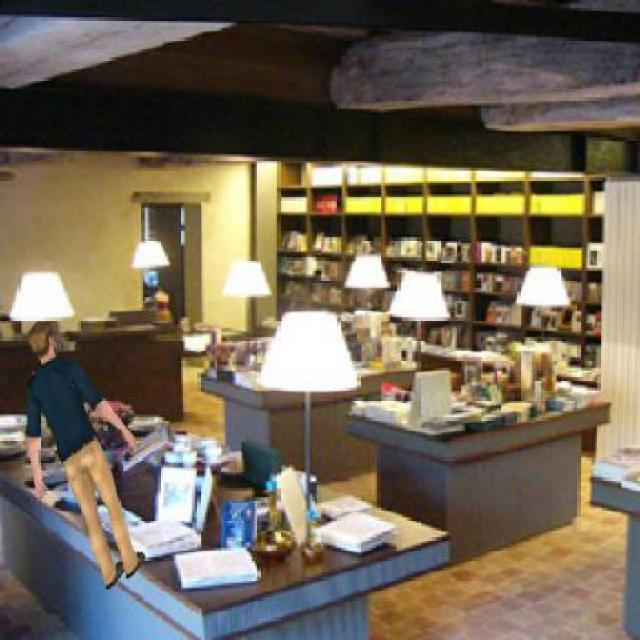Person: (25, 318, 149, 592)
